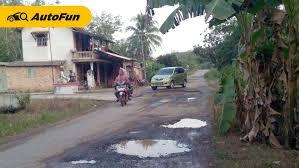Pothole: (94, 128, 196, 159), (149, 110, 215, 134), (136, 87, 210, 106), (56, 156, 105, 167)
